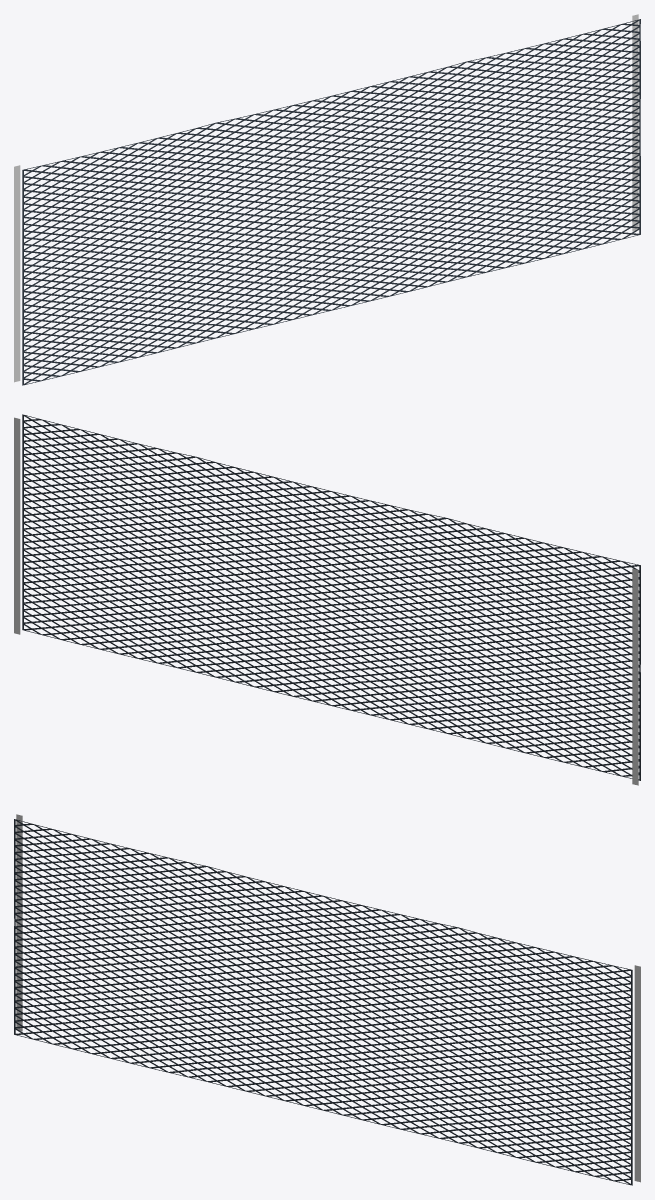
File: ball catcher.fbx
The picture shows the model from 3 angles, top to bottom: view 1: azimuth 30°, elevation 25°; view 2: azimuth 150°, elevation 25°; view 3: azimuth 330°, elevation 25°; orthographic projection.
Visible parts, largest first — view 1: Cube.013, Cube.012; view 2: Cube.013, Cube.012; view 3: Cube.013, Cube.012.
Part boxes in pixels (left/top/right/bottom): Cube.013: left=22, top=19, right=640, bottom=385; Cube.012: left=14, top=14, right=638, bottom=382; Cube.013: left=22, top=414, right=640, bottom=780; Cube.012: left=14, top=417, right=638, bottom=785; Cube.013: left=14, top=819, right=632, bottom=1185; Cube.012: left=16, top=814, right=640, bottom=1182.
Size of the model in its own units: 5541 by 1834 by 83.18.
